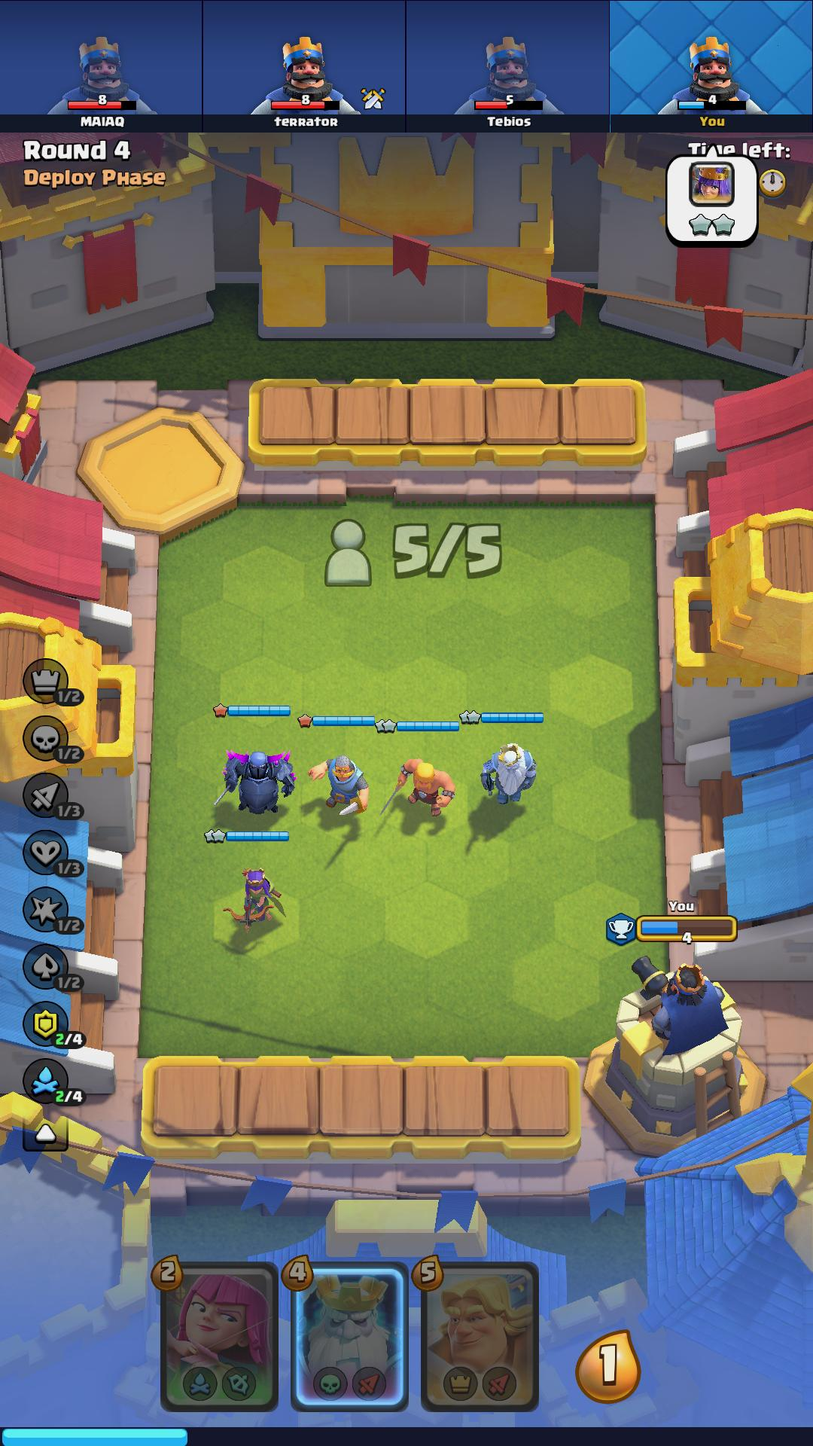barbarian: (380, 749, 457, 821)
ghost: (472, 738, 538, 812)
hand-archer: (164, 1264, 277, 1407)
hand-ghost: (296, 1267, 404, 1408)
hand-golden: (424, 1267, 537, 1413)
knight: (306, 738, 374, 827)
pekka: (216, 738, 302, 823)
queen: (215, 857, 292, 943)
